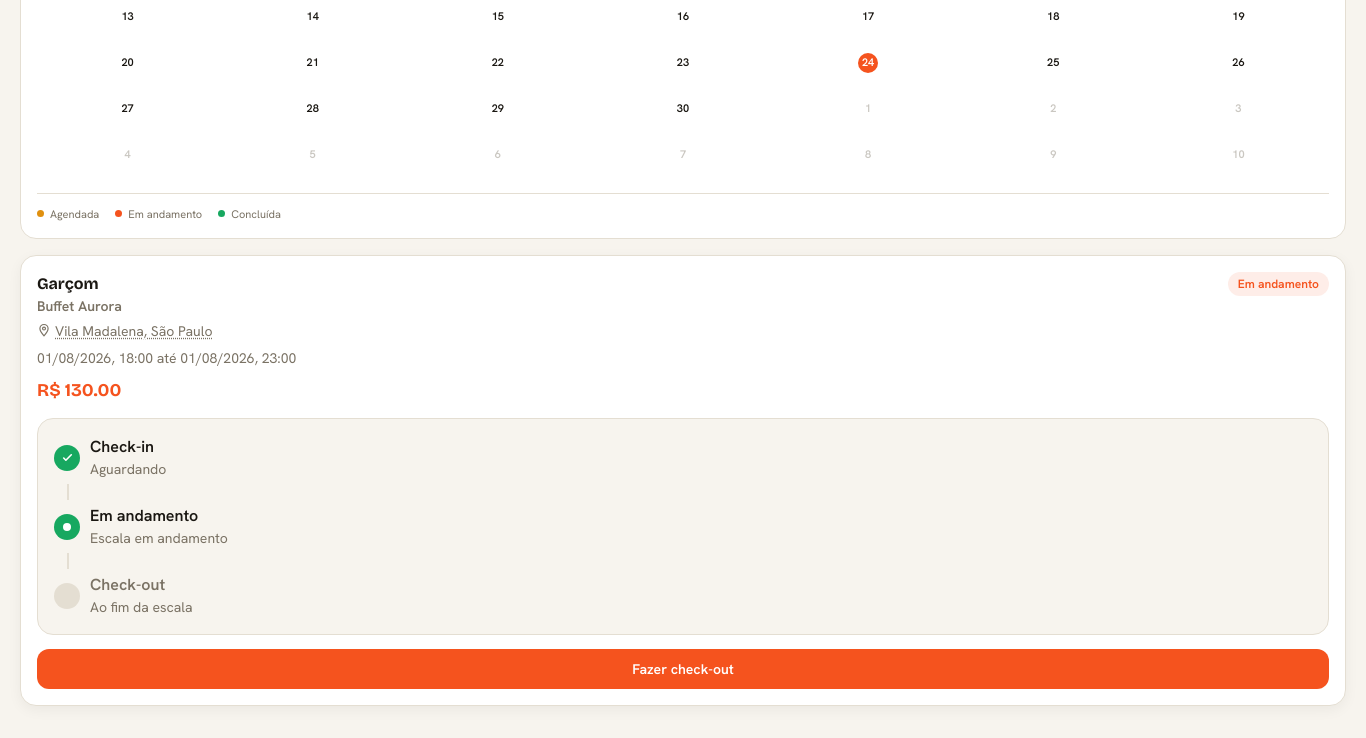
AgendaPage › faz check-out sem pedir localização e mostra que está aguardando confirmação da empresa
The width and height of the screenshot is (1366, 738).
(page scrolled)
Click the button "Fazer check-out" at (683, 669), box [37, 649, 1329, 689]
(page scrolled)
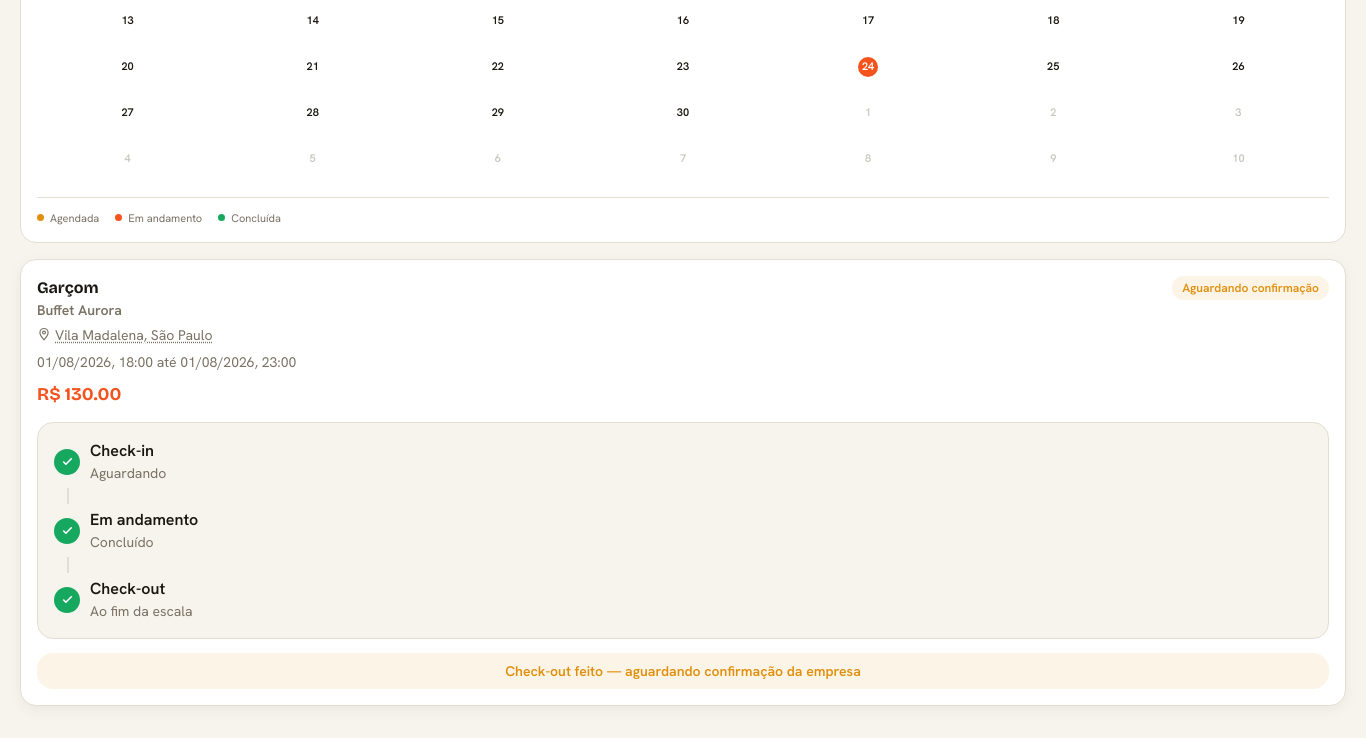
Check: the text "Check-out feito — aguardando confirmação da empresa" is shown, box [37, 653, 1329, 689]
